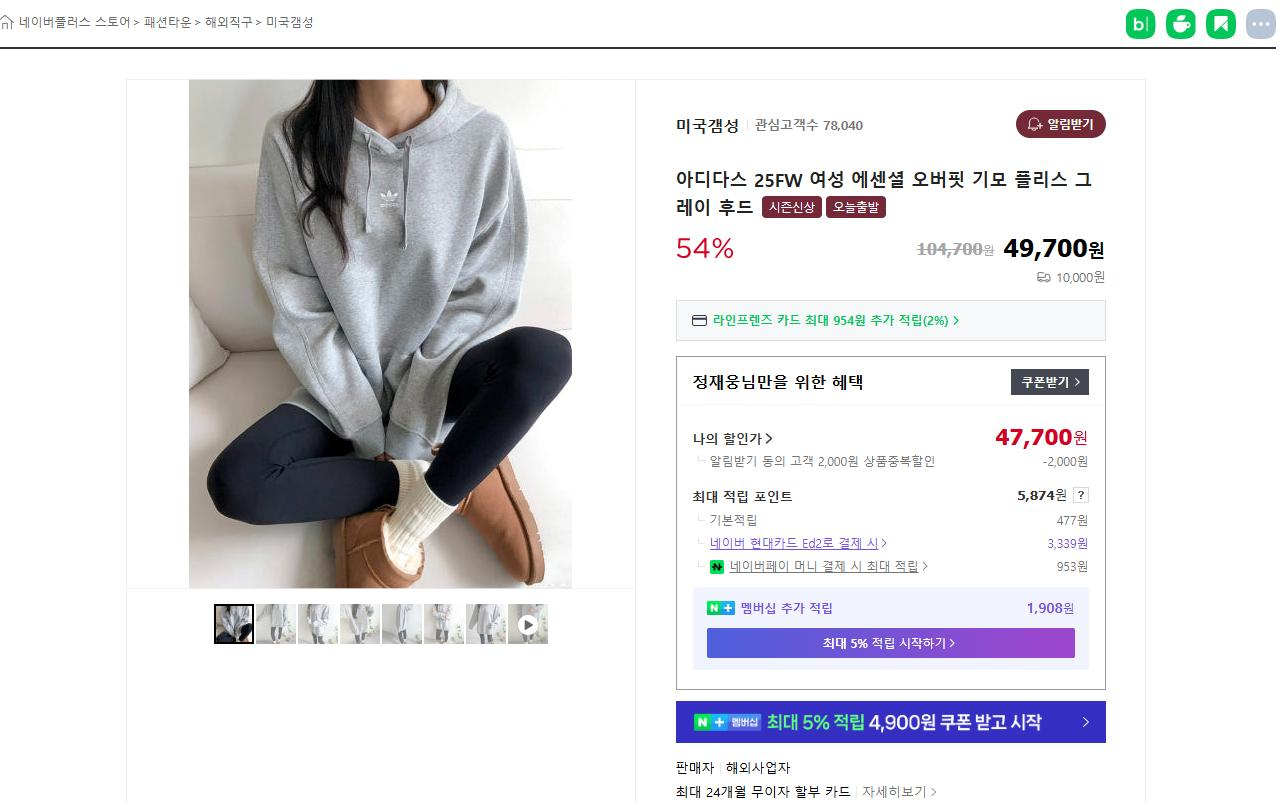button: (680, 700, 1109, 746), (676, 300, 1106, 339), (707, 628, 1079, 658), (1016, 108, 1107, 138), (1012, 369, 1088, 397), (862, 783, 941, 802), (1243, 7, 1276, 40), (1204, 9, 1238, 39), (1168, 9, 1198, 41), (1126, 8, 1157, 38)
